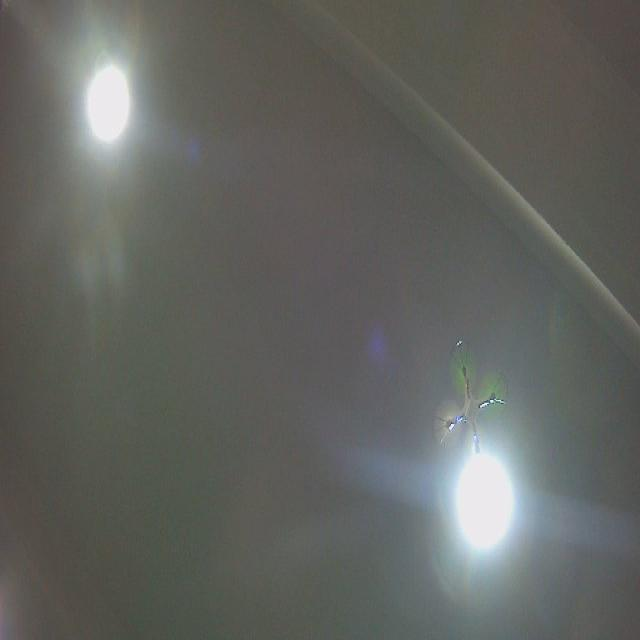drone: (428, 338, 511, 482)
